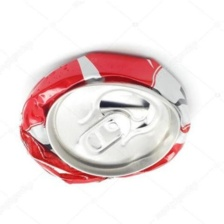can: (12, 44, 193, 187)
